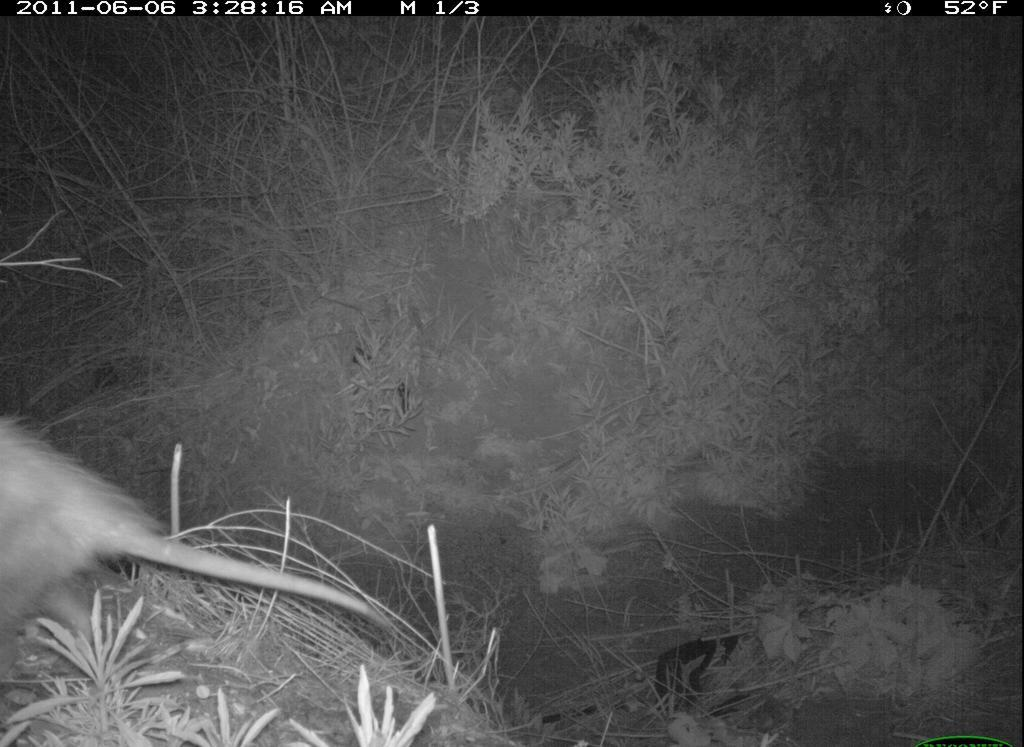opossum: (8, 408, 411, 690)
